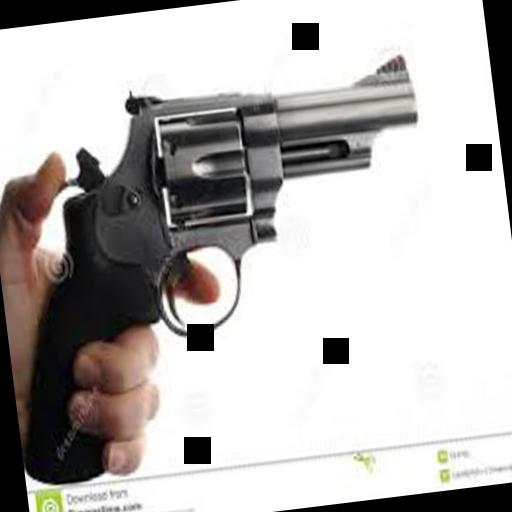Handgun: (0, 53, 450, 476)
